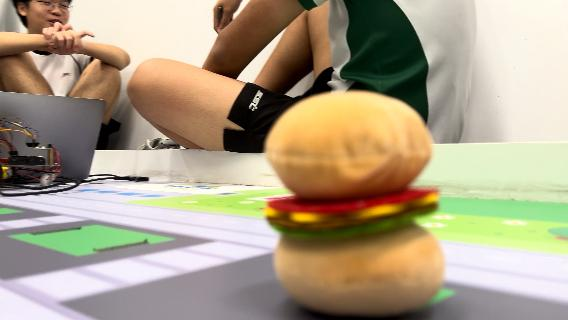burger: (265, 88, 448, 312)
